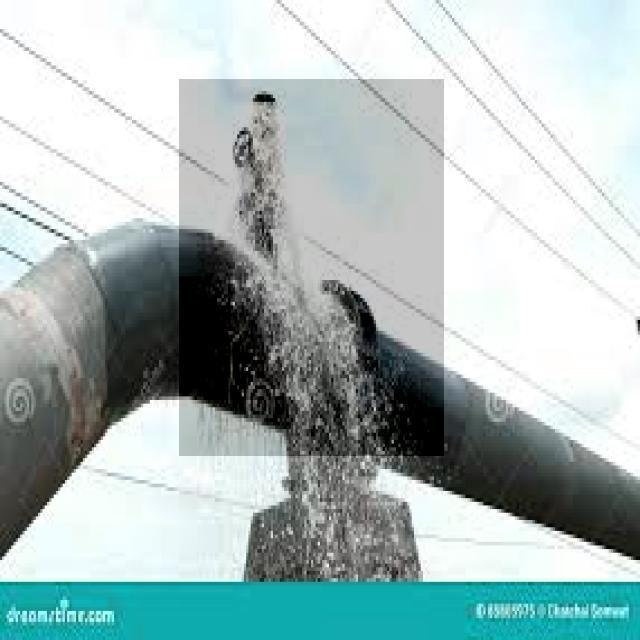corrosion: (180, 83, 442, 456)
